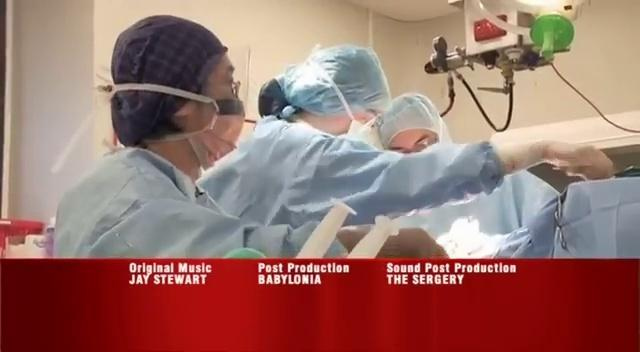doctor: (50, 15, 450, 258), (255, 42, 386, 233)
nurse: (377, 95, 461, 163)
